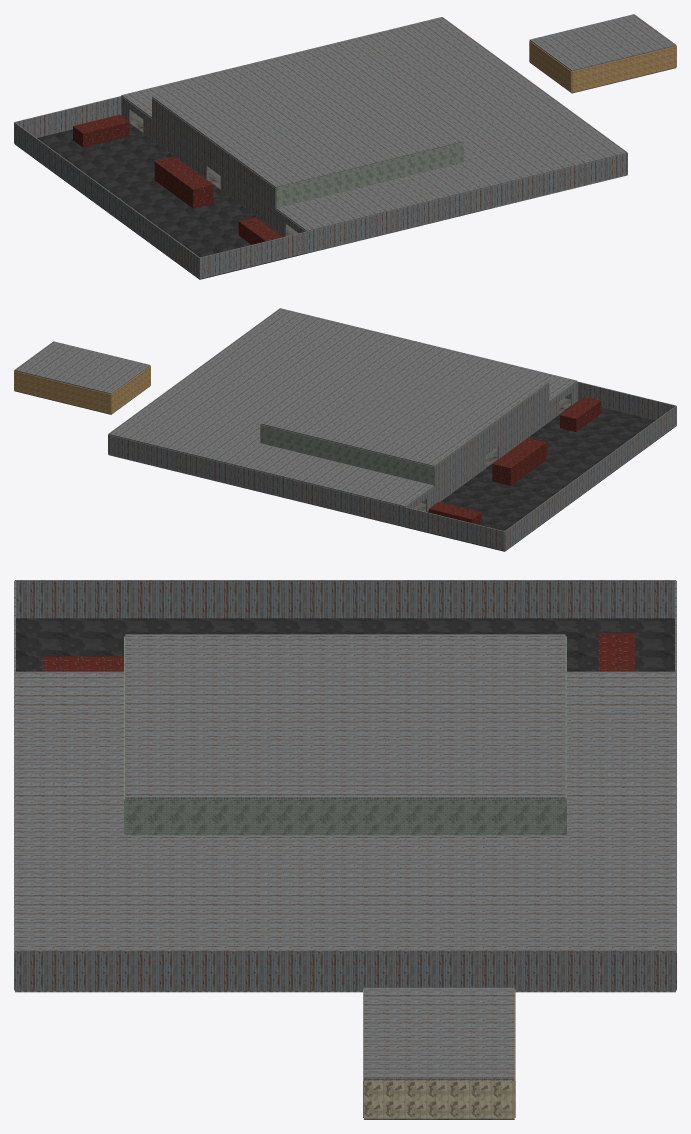
Rendered from Warehouse17.obj.
The picture shows the model from 3 angles, top to bottom: view 1: azimuth 30°, elevation 25°; view 2: azimuth 150°, elevation 25°; view 3: azimuth 270°, elevation 25°; orthographic projection. The views are drawn at different scales.
Visible parts, largest first — view 1: Warehouse17; view 2: Warehouse17; view 3: Warehouse17.
Boxes of the visible parts, left/top/right/bottom form: Warehouse17: left=14, top=14, right=676, bottom=279; Warehouse17: left=14, top=308, right=676, bottom=551; Warehouse17: left=14, top=580, right=676, bottom=1119.
Size of the model in its own units: 11020 by 806 by 6164.
Materials: 11 (11 with a texture image).
